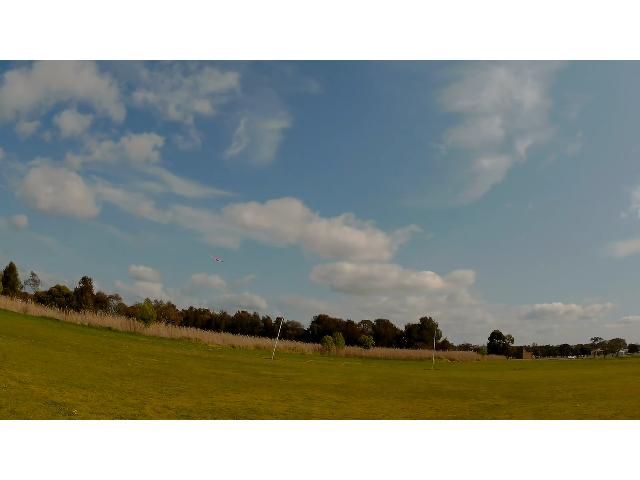Anti-Drone: (208, 256, 224, 263)
